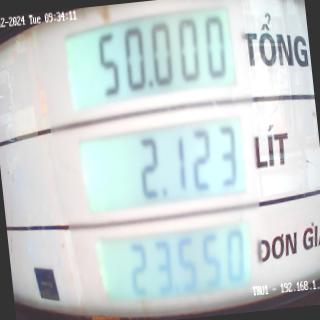screen: (55, 0, 264, 315)
